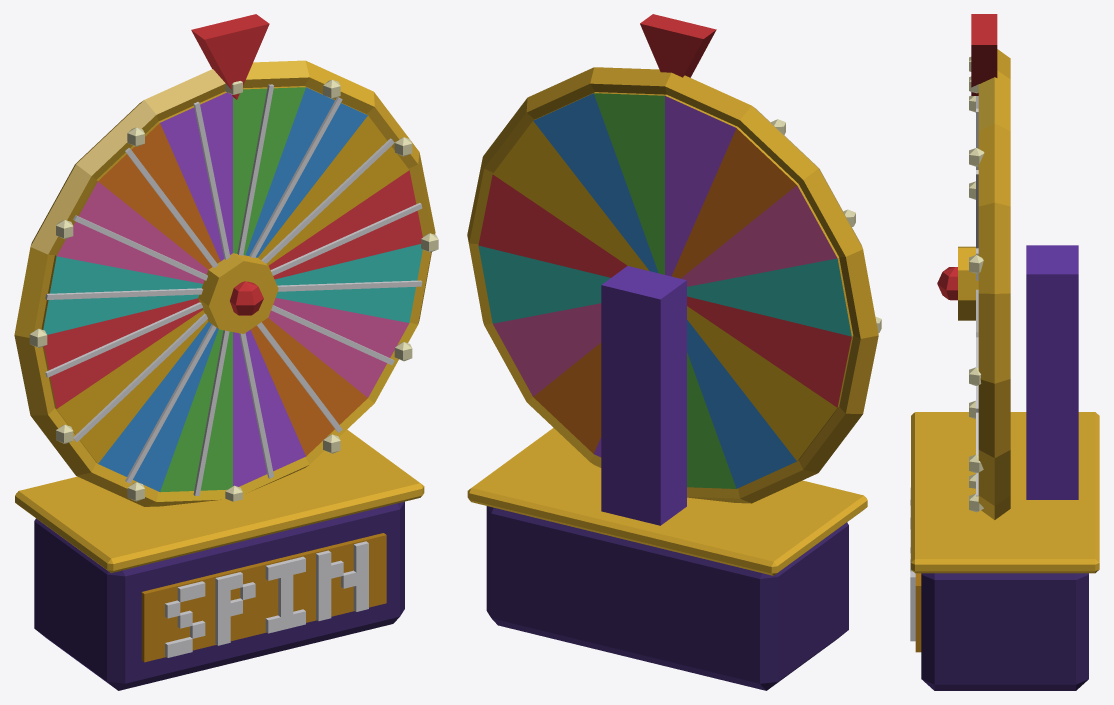
The model's file is Prop_DailySpinMachine.fbx.
The picture shows the model from 3 angles, left to right: view 1: azimuth 30°, elevation 25°; view 2: azimuth 150°, elevation 25°; view 3: azimuth 270°, elevation 25°; orthographic projection. The views are drawn at different scales.
Visible parts, largest first — view 1: Body; view 2: Body; view 3: Body.
Boxes of the visible parts, <box> form: Body: <box>14,14,438,690</box>; Body: <box>467,14,881,690</box>; Body: <box>910,14,1099,690</box>.
Size of the model in its own units: 9.04 by 12.55 by 3.61.
